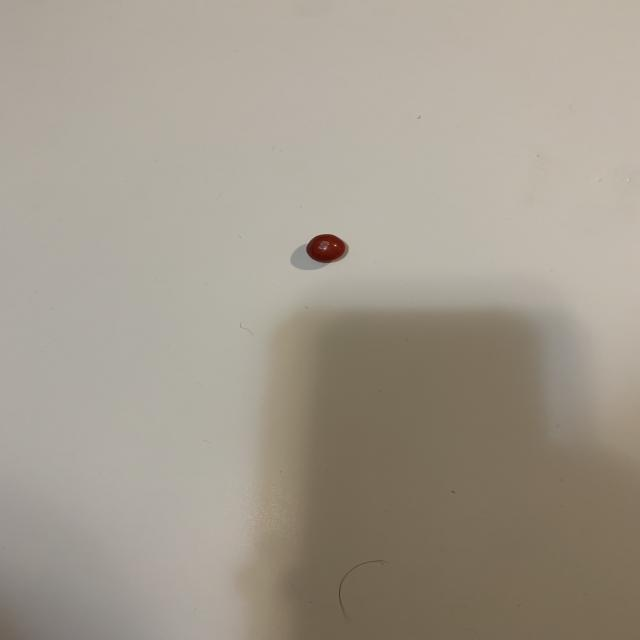smartie: (306, 234, 346, 262)
